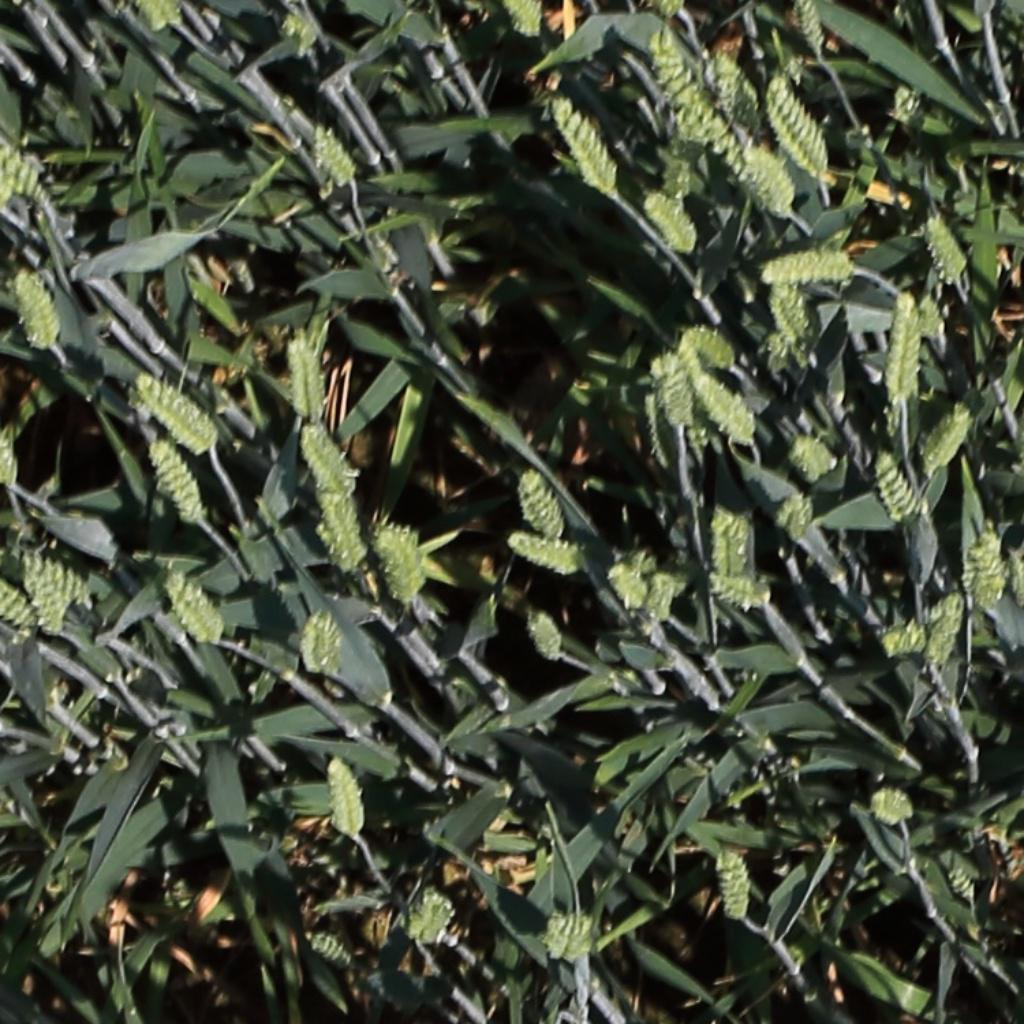0-0: (645, 20, 760, 177), (550, 91, 623, 197), (765, 75, 834, 178), (133, 374, 218, 450), (148, 434, 208, 528), (653, 127, 719, 212), (693, 368, 761, 447), (0, 548, 91, 606), (162, 566, 225, 645), (299, 419, 356, 503), (9, 264, 61, 353), (873, 446, 925, 532), (757, 244, 853, 290), (969, 522, 1017, 611), (374, 522, 424, 607), (745, 141, 800, 218), (517, 462, 567, 546), (643, 185, 700, 256), (709, 43, 756, 129), (924, 401, 977, 476), (924, 207, 972, 286), (925, 588, 969, 673), (309, 117, 360, 189), (326, 753, 365, 846), (766, 278, 815, 352), (0, 131, 46, 203), (320, 505, 371, 569), (658, 348, 696, 431), (406, 884, 456, 947), (506, 533, 585, 572), (289, 326, 320, 421), (718, 843, 750, 928), (535, 912, 598, 955), (715, 503, 748, 584), (789, 431, 836, 486), (606, 558, 652, 613), (305, 606, 338, 681), (643, 386, 674, 465), (864, 782, 916, 828), (528, 606, 567, 667), (880, 616, 937, 655), (686, 326, 738, 368), (938, 848, 978, 901), (281, 4, 318, 61), (797, 0, 832, 60), (887, 77, 928, 127), (647, 566, 679, 628), (305, 931, 356, 969), (786, 486, 813, 548), (711, 577, 771, 604), (36, 592, 71, 637), (506, 0, 544, 40), (914, 293, 945, 340), (1006, 539, 1024, 610), (137, 0, 174, 34), (0, 430, 20, 484)
